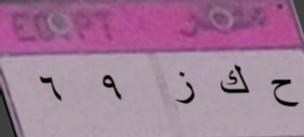6: (36, 71, 69, 107)
7aa: (262, 72, 302, 113)
9: (99, 69, 127, 107)
kaaf: (217, 60, 251, 103)
zay: (171, 66, 201, 108)
